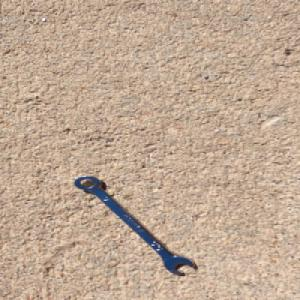Wrench: (72, 174, 198, 276)
